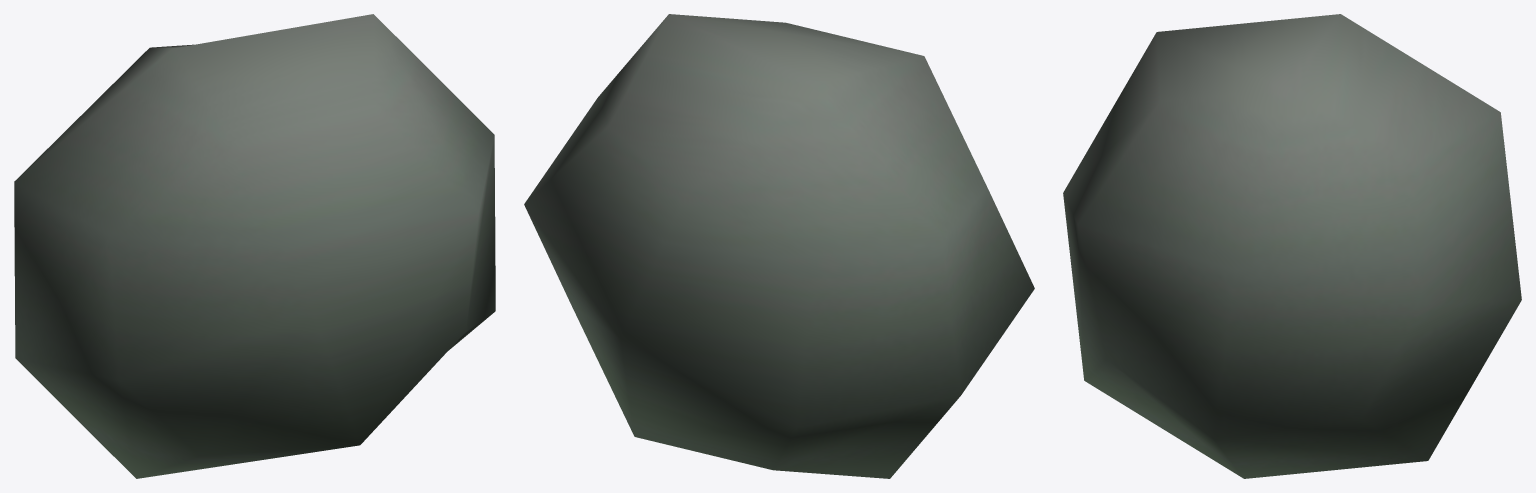
Rendered from Trees_Stone2.fbx.
3 views of the same model, side by side, from view 1: azimuth 30°, elevation 25°; view 2: azimuth 150°, elevation 25°; view 3: azimuth 270°, elevation 25° (orthographic). The views are drawn at different scales.
Parts seen in each view (by area): view 1: Stone2; view 2: Stone2; view 3: Stone2.
Part boxes in pixels (x1,y1,x2,y2): Stone2: (14, 14, 495, 478); Stone2: (524, 14, 1034, 478); Stone2: (1063, 14, 1521, 478).
Size of the model in its own units: 47.32 by 43.97 by 42.61.
1 material, 1 textured.
